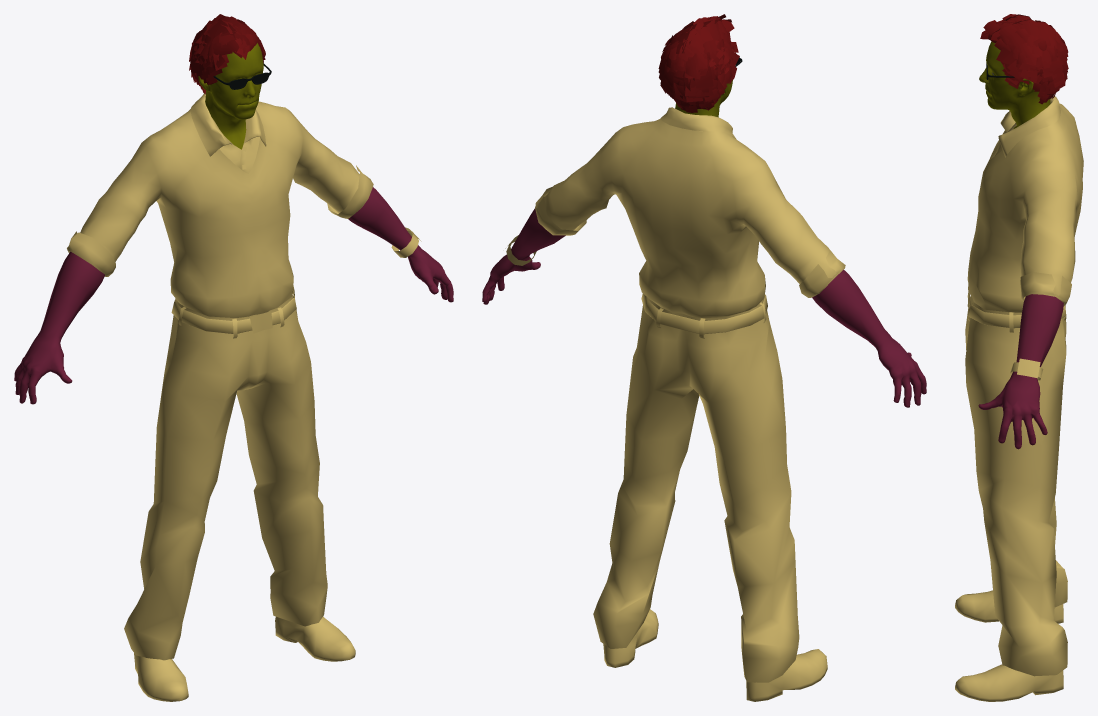
Rendered from Shaun_Hastings.obj.
3 renders of one model, left to right at view 1: azimuth 30°, elevation 25°; view 2: azimuth 150°, elevation 25°; view 3: azimuth 270°, elevation 25°, orthographic. The views are drawn at different scales.
Bounding box in the file's own units: 2.6 × 3.73 × 0.6848.
